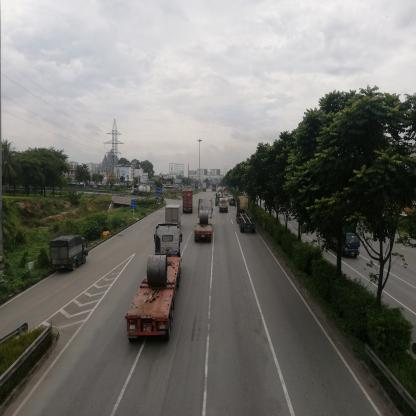car: (230, 199, 236, 207)
container: (154, 227, 184, 326), (198, 200, 213, 239), (239, 197, 251, 229), (185, 191, 194, 212)
truck: (54, 234, 90, 269), (167, 206, 182, 224), (131, 186, 153, 195), (221, 200, 228, 210)
